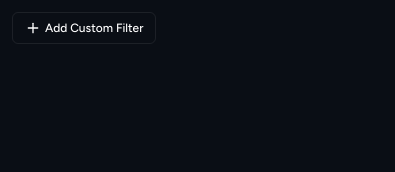
it: CustomFilterBuilder › adds a filter row when clicking add
Click the button with test id "add-custom-filter": (84, 28) [12, 12, 156, 44]
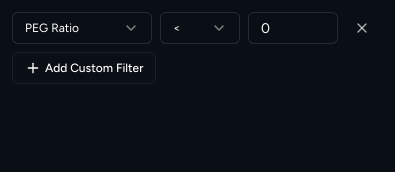
Expected: the element with test id "custom-filter-row" is shown, [12, 12, 378, 44]
